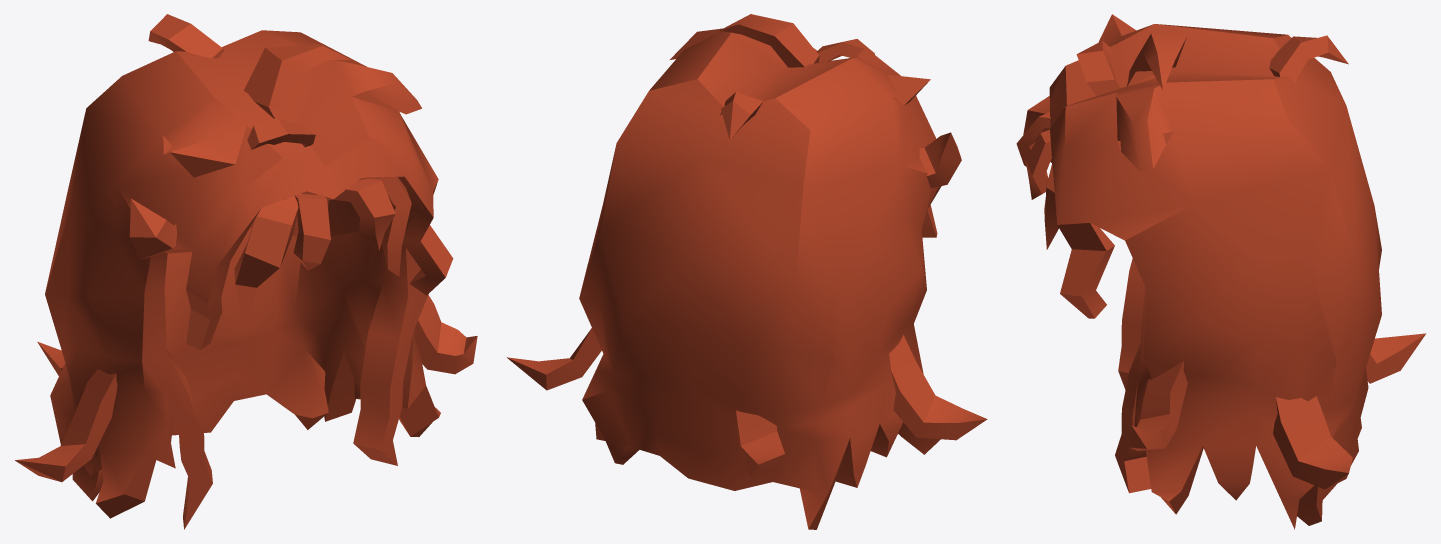
The model's file is Hair_LongCurlyMullet_Pivot.glb.
3 renders of one model, left to right at view 1: azimuth 30°, elevation 25°; view 2: azimuth 150°, elevation 25°; view 3: azimuth 270°, elevation 25°, orthographic. The views are drawn at different scales.
Parts seen in each view (by area): view 1: Hair_LongCurlyMullet; view 2: Hair_LongCurlyMullet; view 3: Hair_LongCurlyMullet.
Part boxes in pixels (bbox=[...]): Hair_LongCurlyMullet: bbox=[15, 14, 477, 529]; Hair_LongCurlyMullet: bbox=[507, 14, 987, 529]; Hair_LongCurlyMullet: bbox=[1016, 14, 1426, 529].
Size of the model in its own units: 1.02 by 1.02 by 0.8183.
